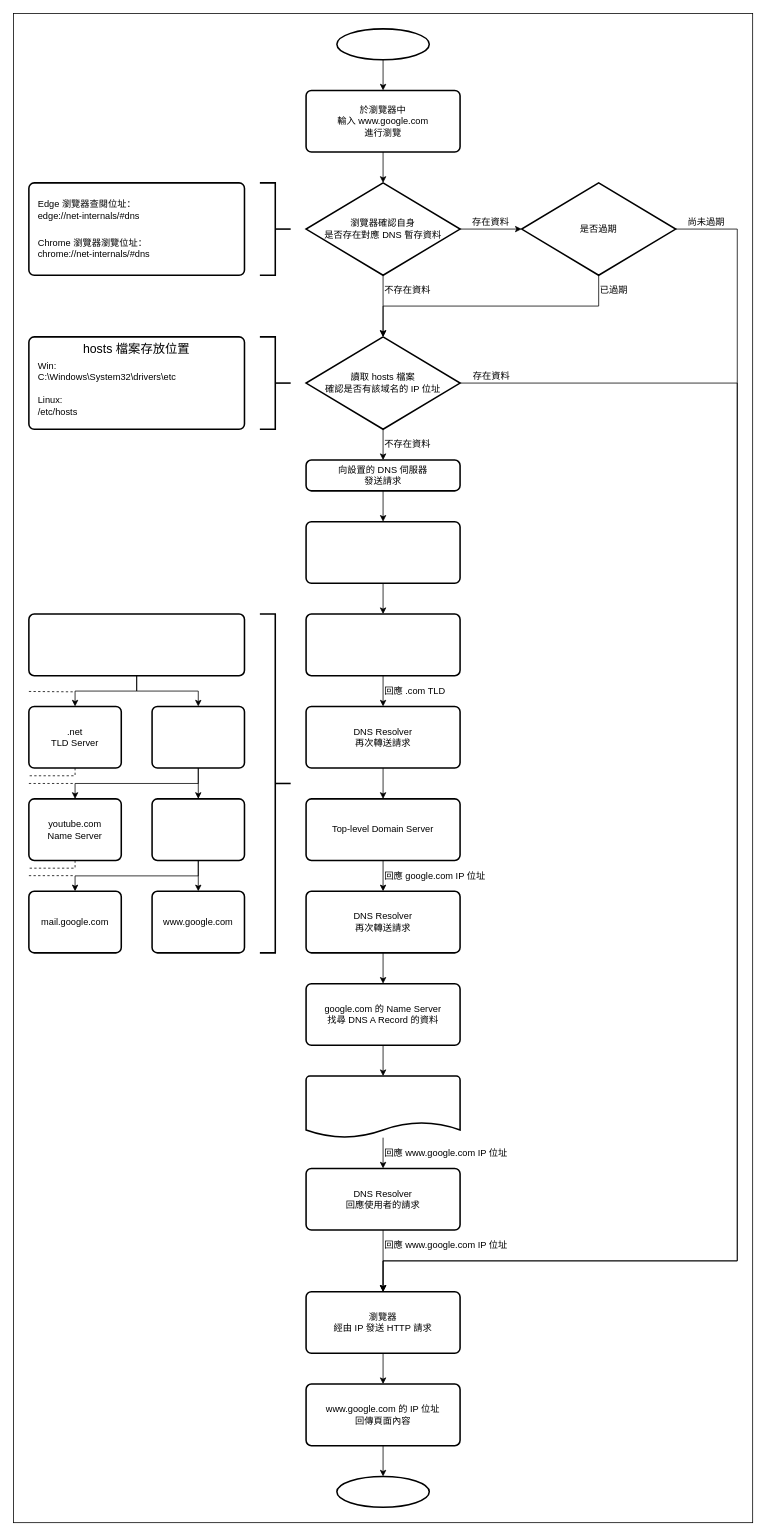
The diagram is 766 pixels wide and 1536 high, and some of its shapes have lost their labels. Each missing label, with the centre of its shape:
".com TLD Server" goes at point (198, 736).
"DNS Resolver 轉送請求" goes at point (382, 552).
"DNS Root Name Server" goes at point (382, 644).
"google.com Name Server" goes at point (198, 829).
"Root Name Server （以樹狀目錄管理）" goes at point (136, 644).
"www / A / 3600 / 172.217.160.100 mail / A / 3600 / 172.217.160.101 ……" goes at point (382, 1106).
"結束" goes at point (383, 1491).
"起始" goes at point (383, 44).
